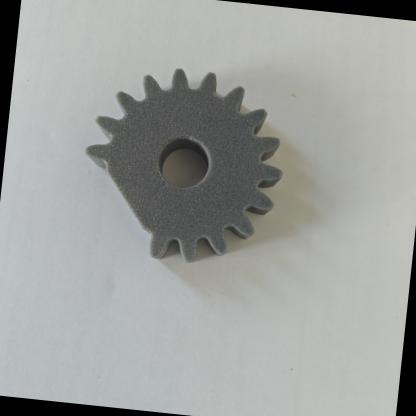defect: (56, 132, 190, 263)
gear: (47, 49, 303, 290)
